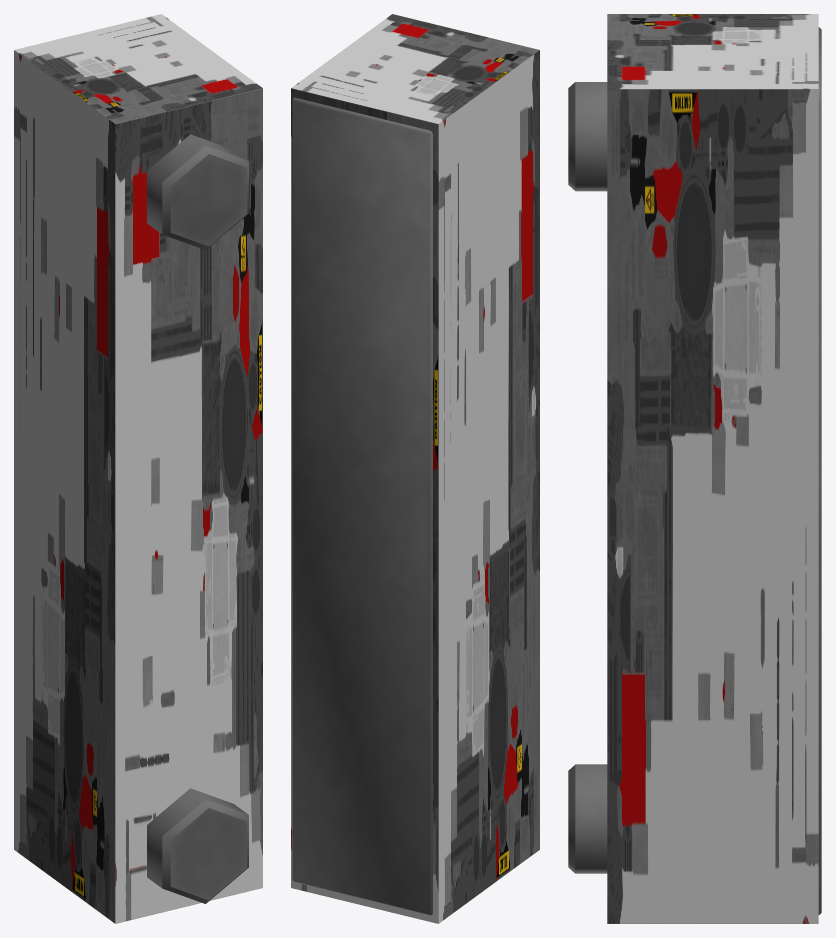
Rendered from SFM_ElectricCable_Latch.FBX.
3 views of the same model, side by side, from view 1: azimuth 30°, elevation 25°; view 2: azimuth 150°, elevation 25°; view 3: azimuth 270°, elevation 25° (orthographic). The views are drawn at different scales.
Visible parts, largest first — view 1: SFM_ElectricCable_Latch_Colider, SFM_ElectricCable_Latch_LOD0; view 2: SFM_ElectricCable_Latch_LOD0, SFM_ElectricCable_Latch_Colider; view 3: SFM_ElectricCable_Latch_Colider, SFM_ElectricCable_Latch_LOD0.
Part boxes in pixels (bbox=[...]): SFM_ElectricCable_Latch_Colider: bbox=[14, 14, 262, 923]; SFM_ElectricCable_Latch_LOD0: bbox=[147, 134, 248, 903]; SFM_ElectricCable_Latch_LOD0: bbox=[292, 97, 432, 915]; SFM_ElectricCable_Latch_Colider: bbox=[291, 14, 539, 923]; SFM_ElectricCable_Latch_Colider: bbox=[607, 14, 818, 923]; SFM_ElectricCable_Latch_LOD0: bbox=[568, 27, 821, 914].
Size of what is drawn, in the model's own units: 2.73 by 14.14 by 3.89.
